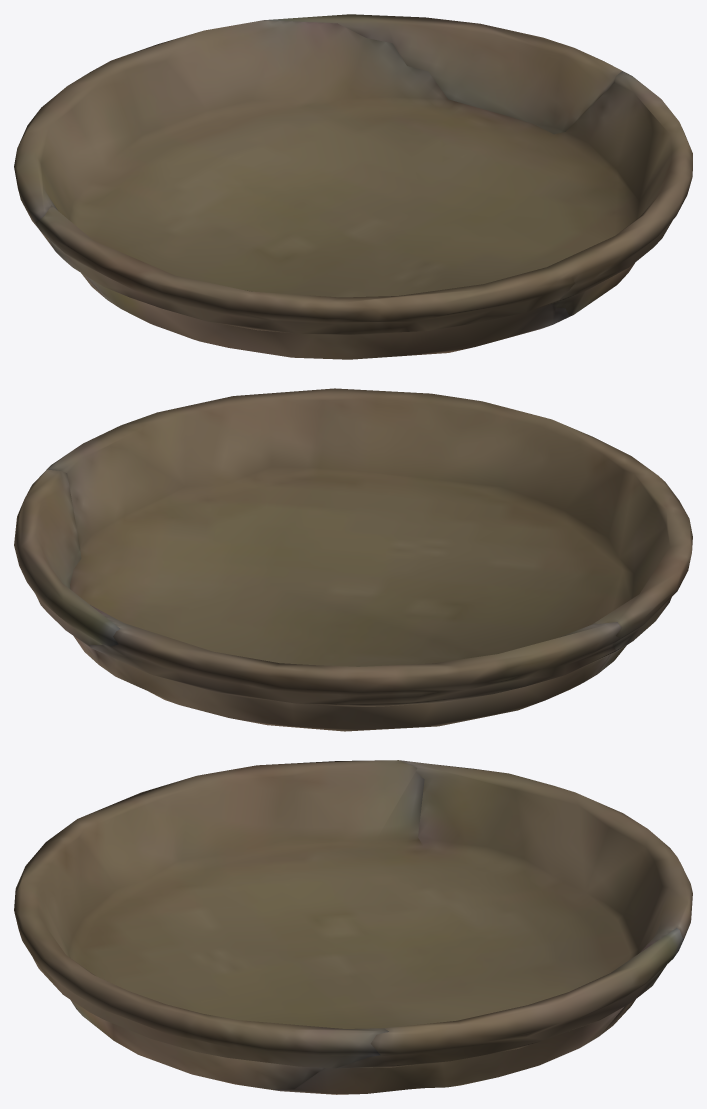
The model's file is Cole_Hardware_Plant_Saucer_Brown_125-medium.glb.
The picture shows the model from 3 angles, top to bottom: view 1: azimuth 30°, elevation 25°; view 2: azimuth 150°, elevation 25°; view 3: azimuth 270°, elevation 25°; orthographic projection.
Parts seen in each view (by area): view 1: Cole_Hardware_Plant_Saucer_Brown_125; view 2: Cole_Hardware_Plant_Saucer_Brown_125; view 3: Cole_Hardware_Plant_Saucer_Brown_125.
Boxes of the visible parts, x1,y1,x2,y2 form: Cole_Hardware_Plant_Saucer_Brown_125: [14, 14, 692, 359]; Cole_Hardware_Plant_Saucer_Brown_125: [14, 388, 692, 731]; Cole_Hardware_Plant_Saucer_Brown_125: [14, 760, 692, 1094].
Size of the model in its own units: 0.3102 by 0.0454 by 0.3093.
Materials: 1 (1 with a texture image).
